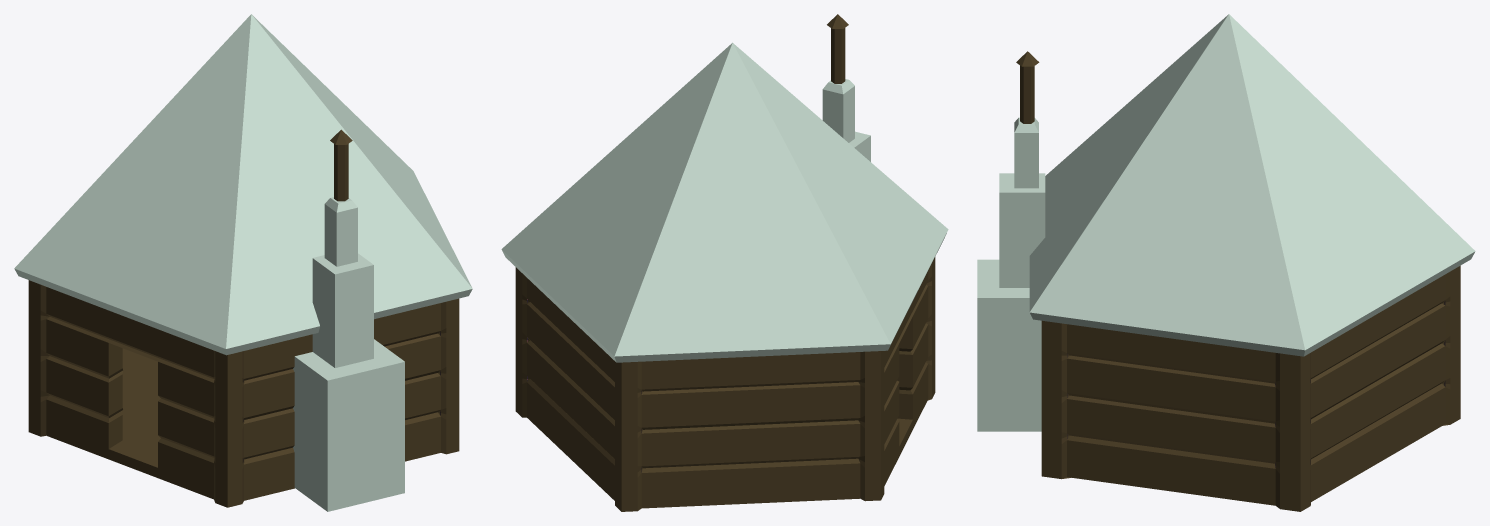
Rendered from Haus.fbx.
3 views of the same model, side by side, from view 1: azimuth 30°, elevation 25°; view 2: azimuth 150°, elevation 25°; view 3: azimuth 270°, elevation 25° (orthographic). The views are drawn at different scales.
Parts seen in each view (by area): view 1: Haus.001; view 2: Haus.001; view 3: Haus.001.
Boxes of the visible parts, box(x1,y1,x2,y2) form: Haus.001: box(14, 14, 472, 511); Haus.001: box(501, 14, 948, 511); Haus.001: box(977, 14, 1475, 511).
Bounding box in the file's own units: 10.55 × 10.05 × 11.2.
